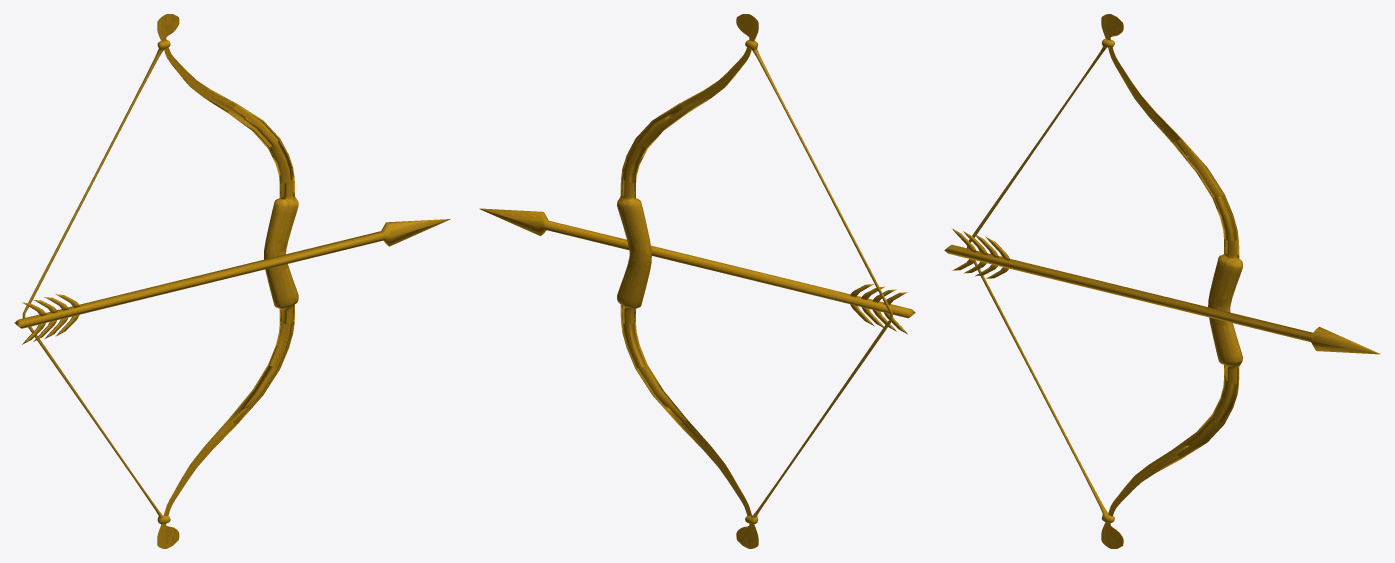
The model's file is ApolloWeapon.fbx.
3 views of the same model, side by side, from view 1: azimuth 30°, elevation 25°; view 2: azimuth 150°, elevation 25°; view 3: azimuth 330°, elevation 25° (orthographic).
Visible parts, largest first — view 1: Touw; view 2: Touw; view 3: Touw.
Boxes of the visible parts, <box> form: Touw: <box>14,14,450,548</box>; Touw: <box>479,14,915,548</box>; Touw: <box>944,14,1380,548</box>.
Size of the model in its own units: 1119 by 1320 by 71.03.
1 material, 1 textured.
